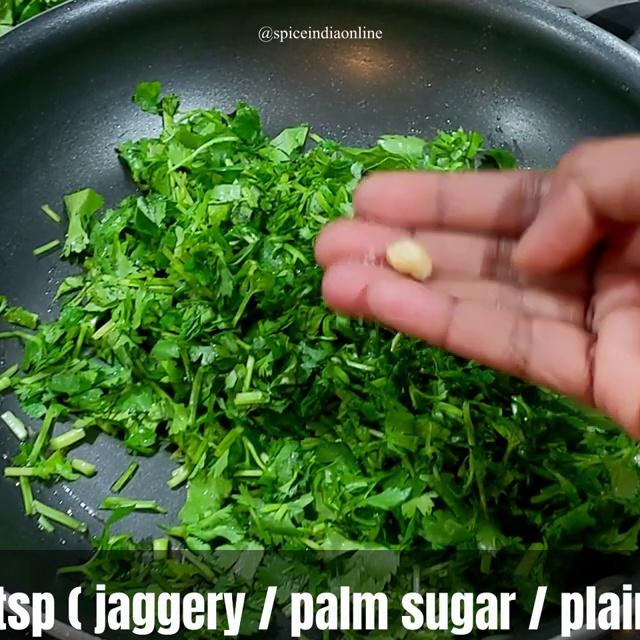cilantro: (141, 117, 321, 525)
